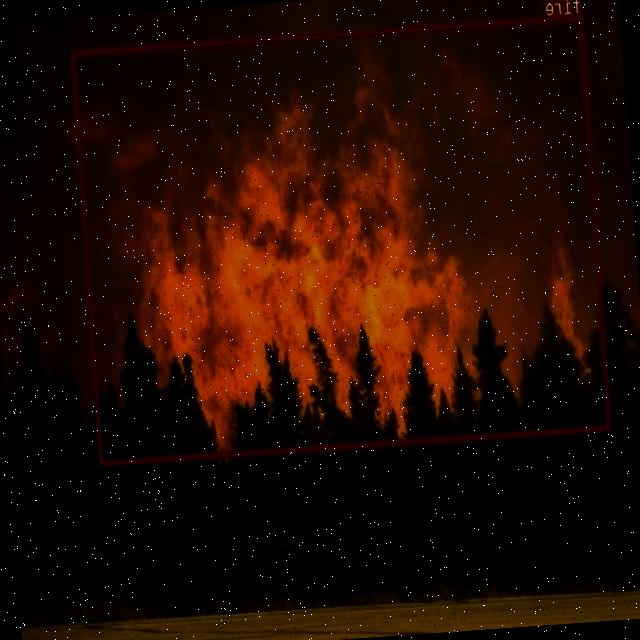fire: (71, 13, 612, 464)
